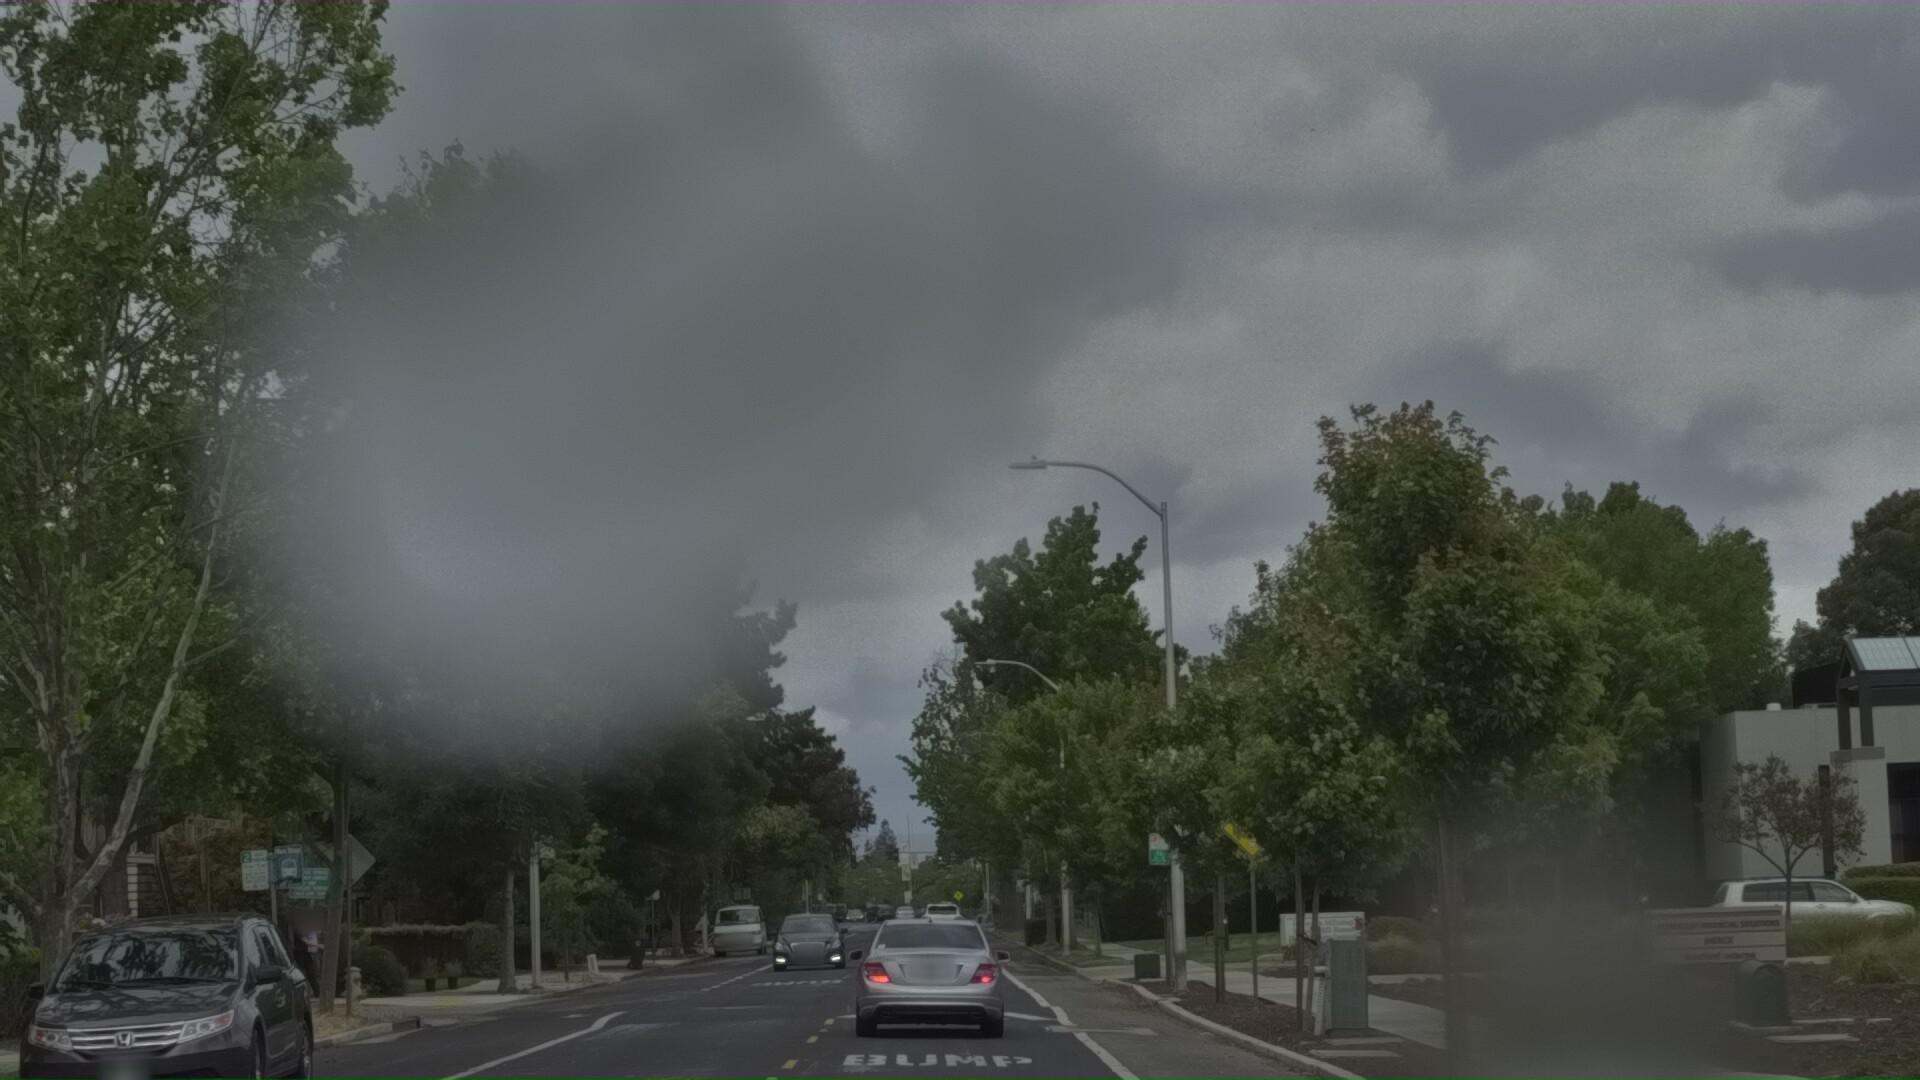car: (18, 926, 352, 1080), (855, 935, 1021, 1080), (1676, 897, 1920, 984)
